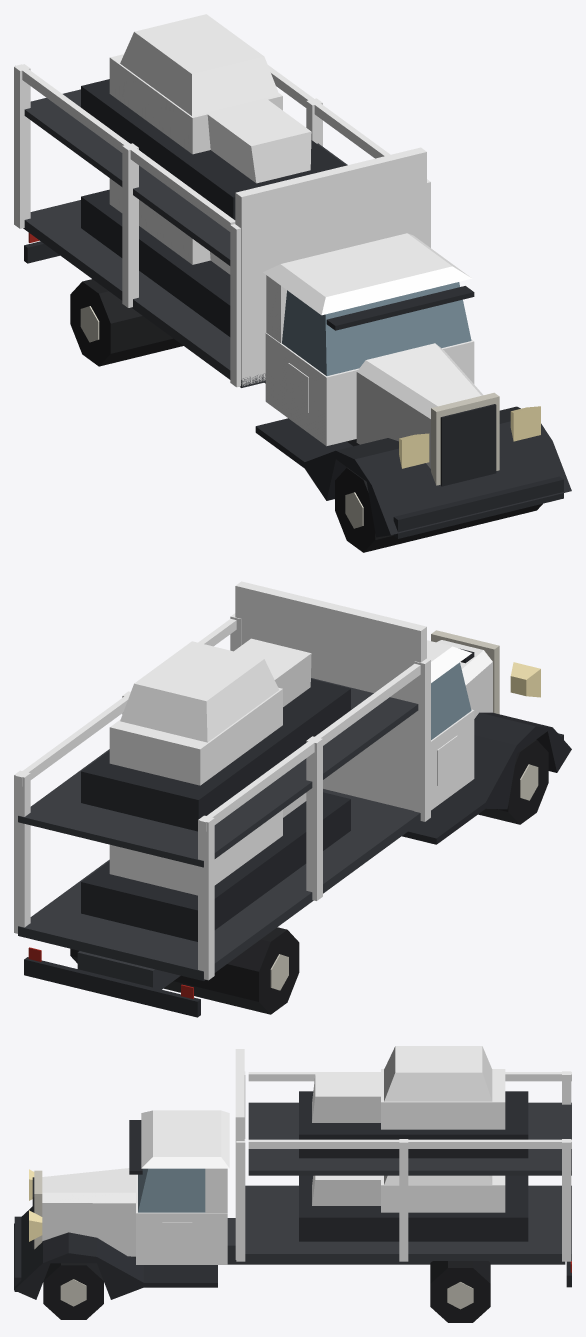
The model's file is carrier.glb.
The picture shows the model from 3 angles, top to bottom: view 1: azimuth 30°, elevation 25°; view 2: azimuth 150°, elevation 25°; view 3: azimuth 270°, elevation 25°; orthographic projection. The views are drawn at different scales.
Parts seen in each view (by area): view 1: model; view 2: model; view 3: model.
Part boxes in pixels (x1,y1,x2,y2): model: (14, 14, 571, 552); model: (14, 581, 571, 1017); model: (14, 1046, 571, 1322).
Size of the model in its own units: 2.58 by 3.85 by 8.51.
